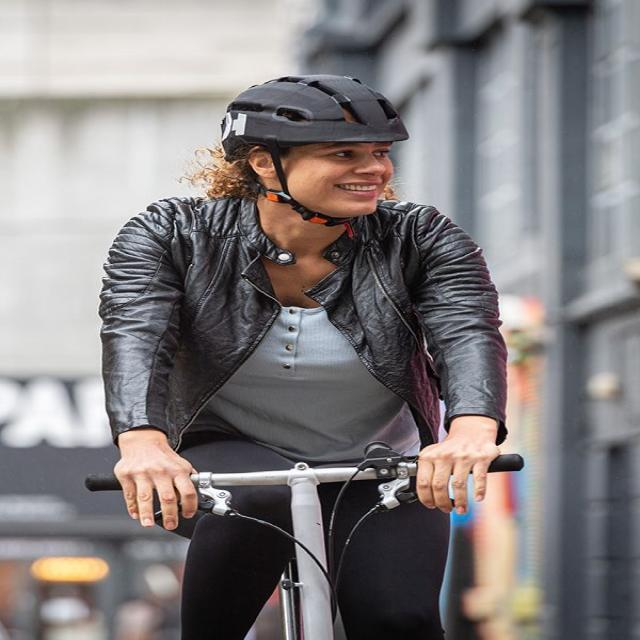helmet: (218, 72, 406, 232)
